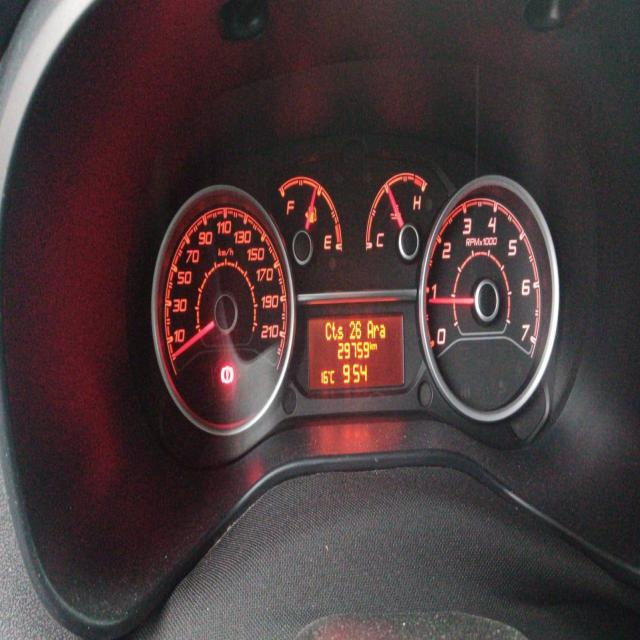odometer: (306, 315, 406, 390)
